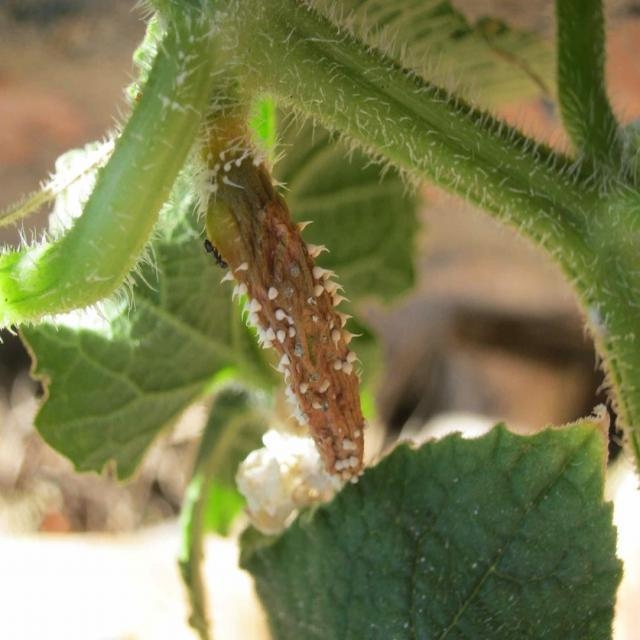Fruit fly: (202, 159, 364, 487), (239, 435, 346, 540)
